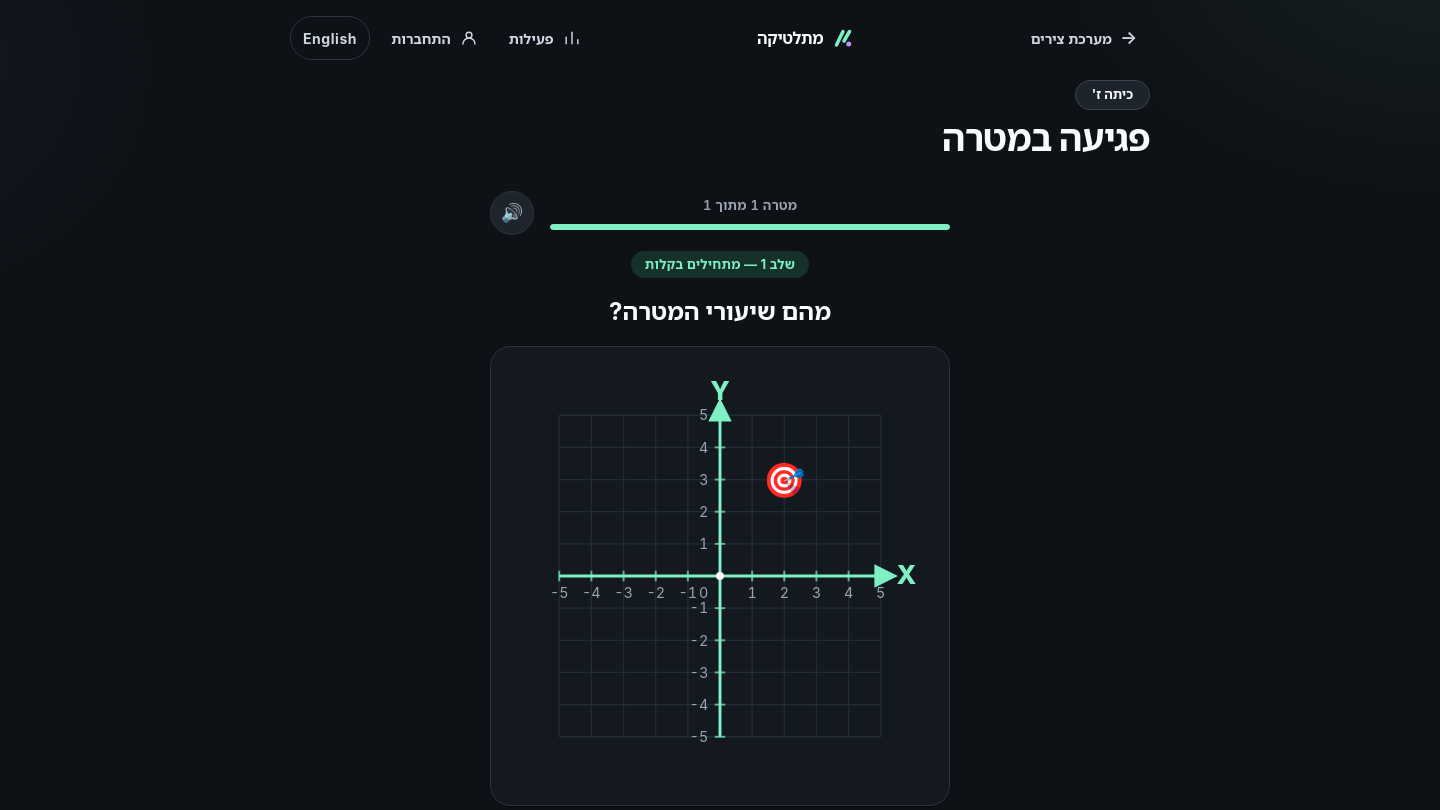
Scenario: resilience — storage failures never break gameplay › still toggles sound when the preference cannot be persisted
Click the button named "צלילים פועלים" at (512, 213), box [490,191,534,235]
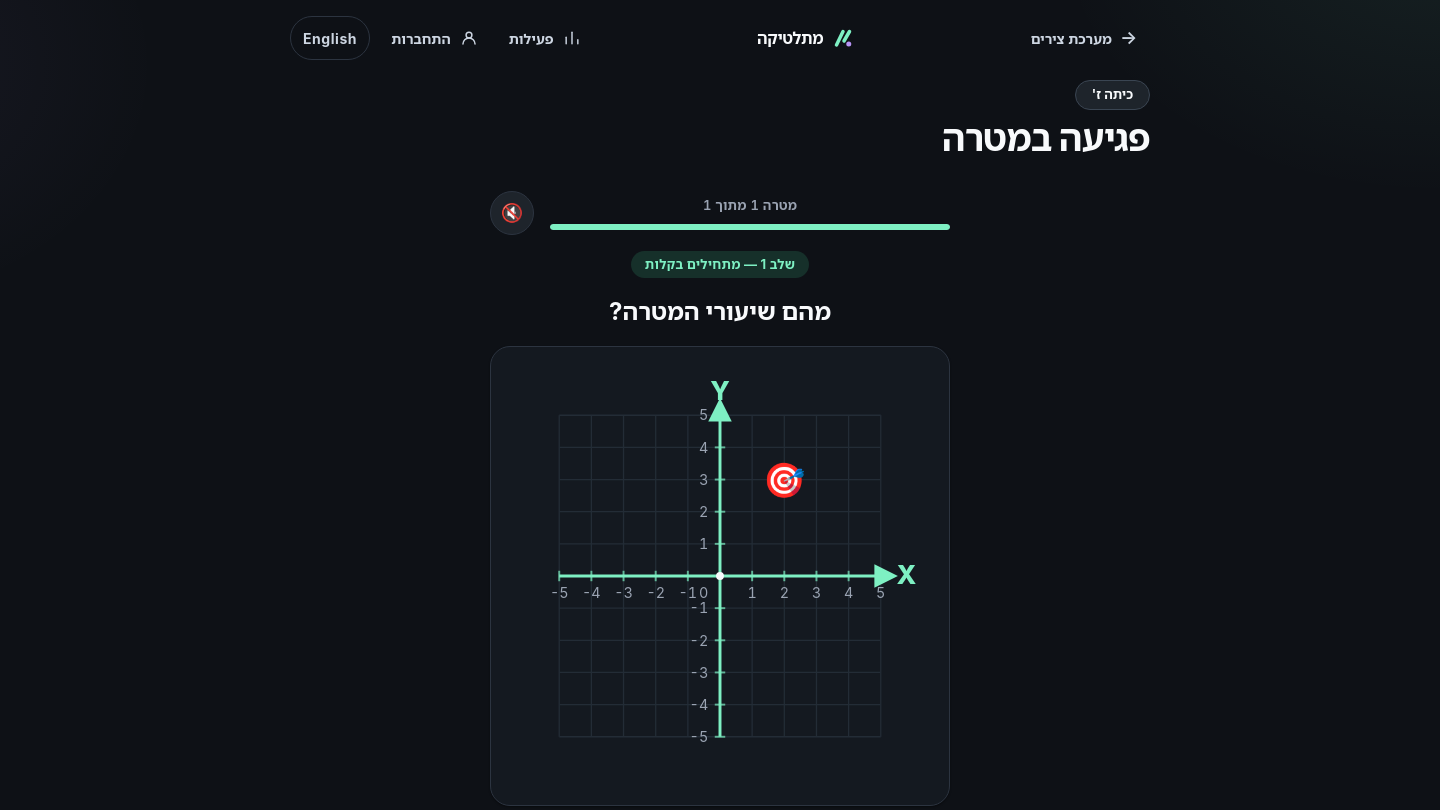
Check: the button named "צלילים כבויים" is shown, box [490,191,534,235]
